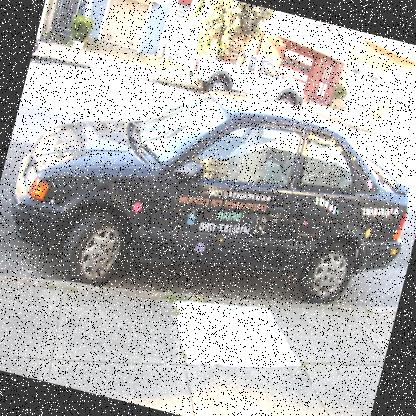Car: (0, 42, 415, 358)
